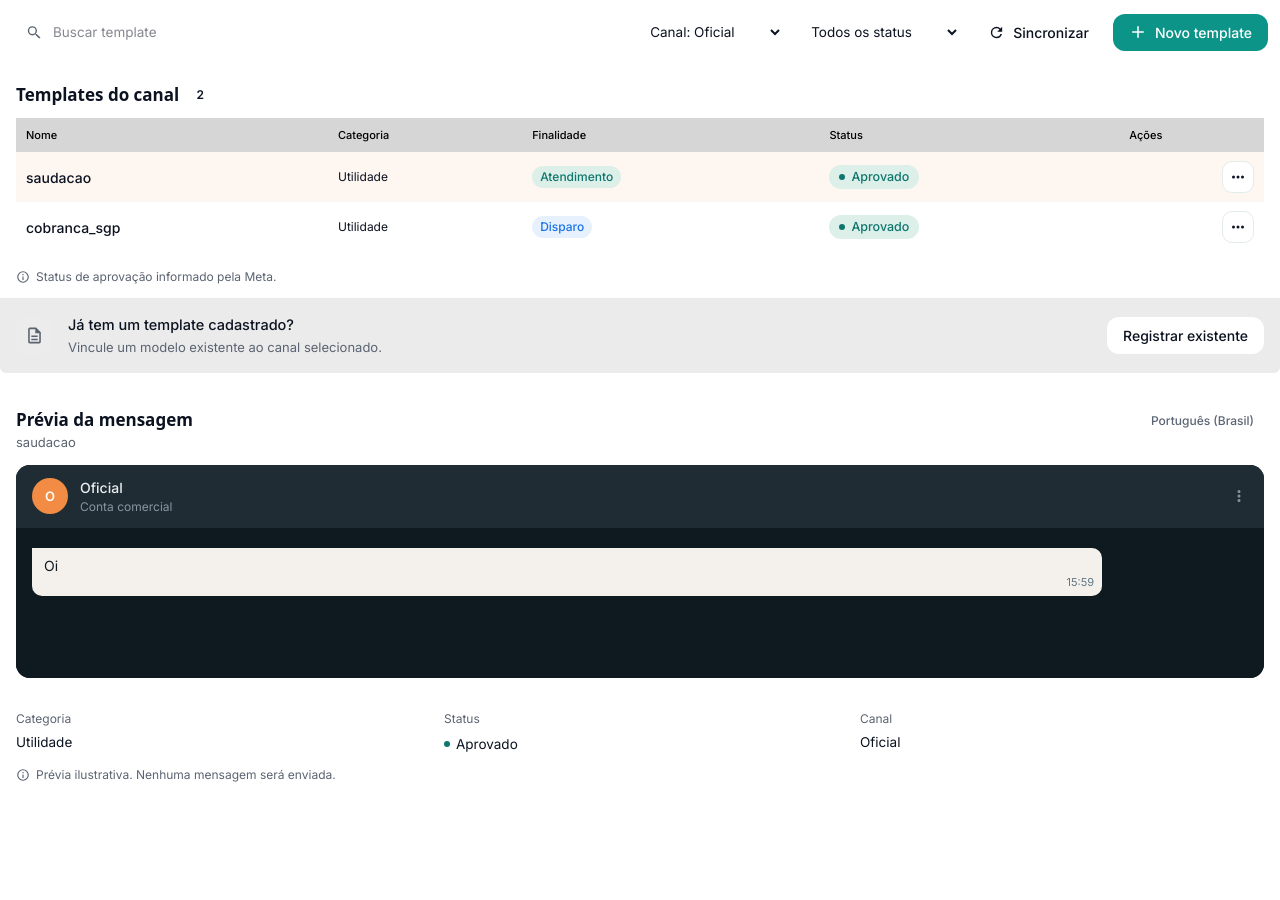
Scenario: finalidade do template › o menu do template de disparo oferece voltar para atendimento
Expected: the button "cobranca_sgp" is shown, [26,216,120,238]
Click the button named "mais ações" at (1238, 227), box [1222,211,1254,243]
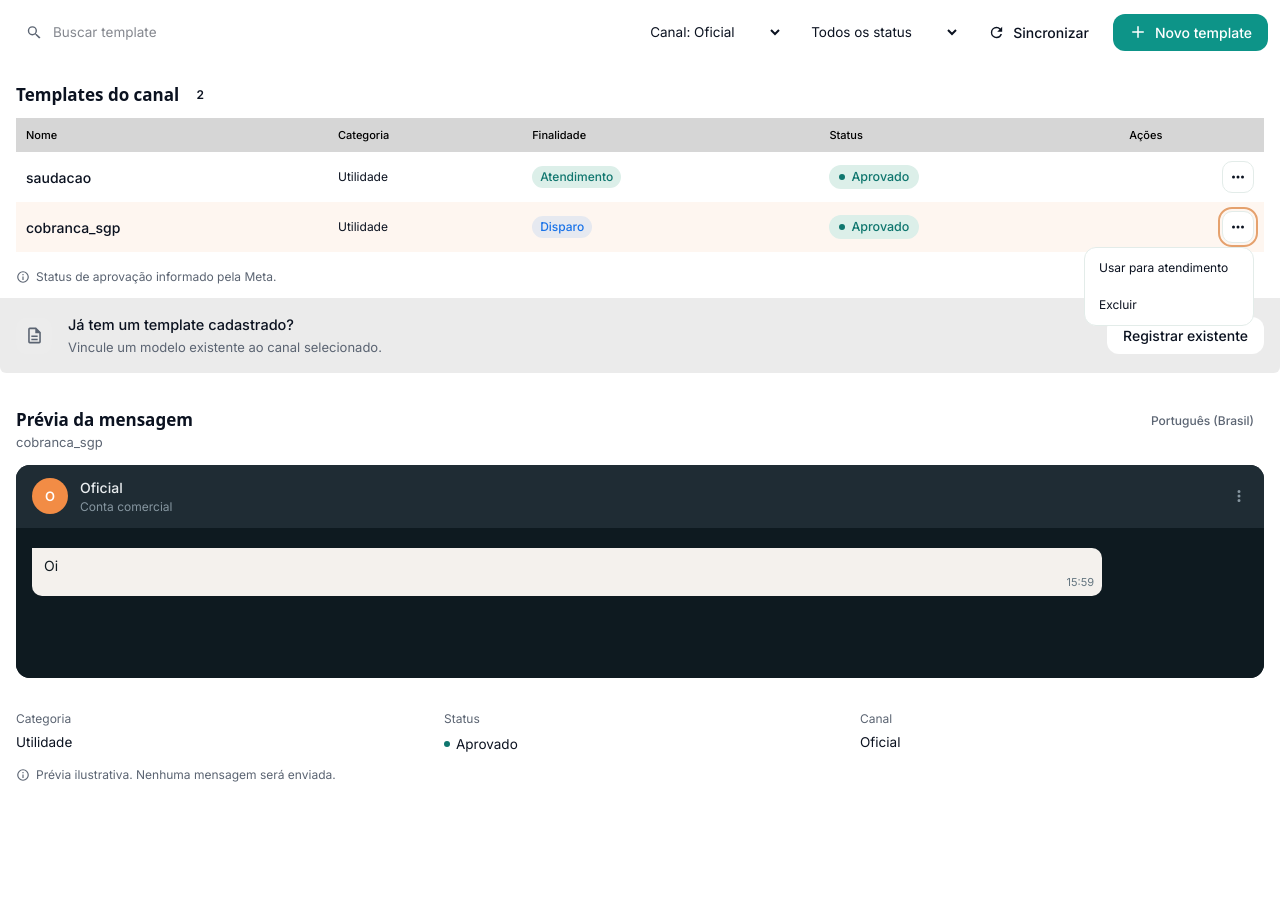
Expected: the button "Usar para atendimento" is shown, [1089,252,1249,284]
